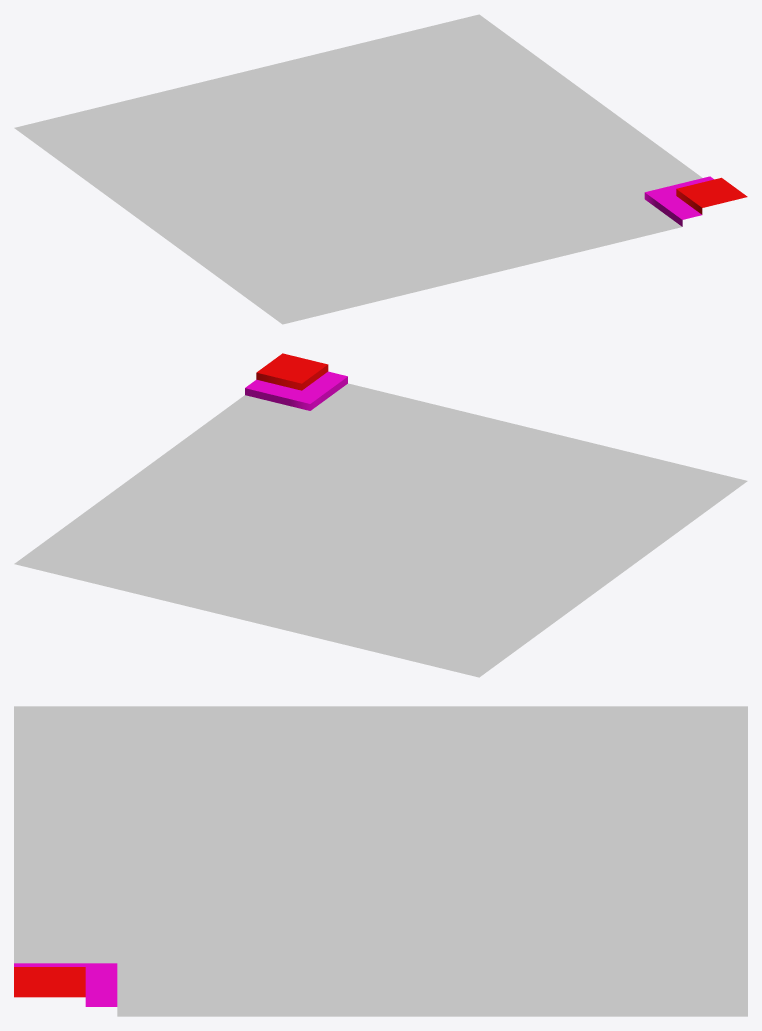
The model's file is Floor-CornerIn.fbx.
3 renders of one model, top to bottom at view 1: azimuth 30°, elevation 25°; view 2: azimuth 150°, elevation 25°; view 3: azimuth 270°, elevation 25°, orthographic. The views are drawn at different scales.
Parts seen in each view (by area): view 1: CornerIn; view 2: CornerIn; view 3: CornerIn.
Boxes of the visible parts, x1=… form: CornerIn: x1=14, y1=14, x2=747, y2=324; CornerIn: x1=14, y1=353, x2=747, y2=677; CornerIn: x1=14, y1=706, x2=747, y2=1016.
Size of the model in its own units: 78.74 by 2.28 by 78.74.
